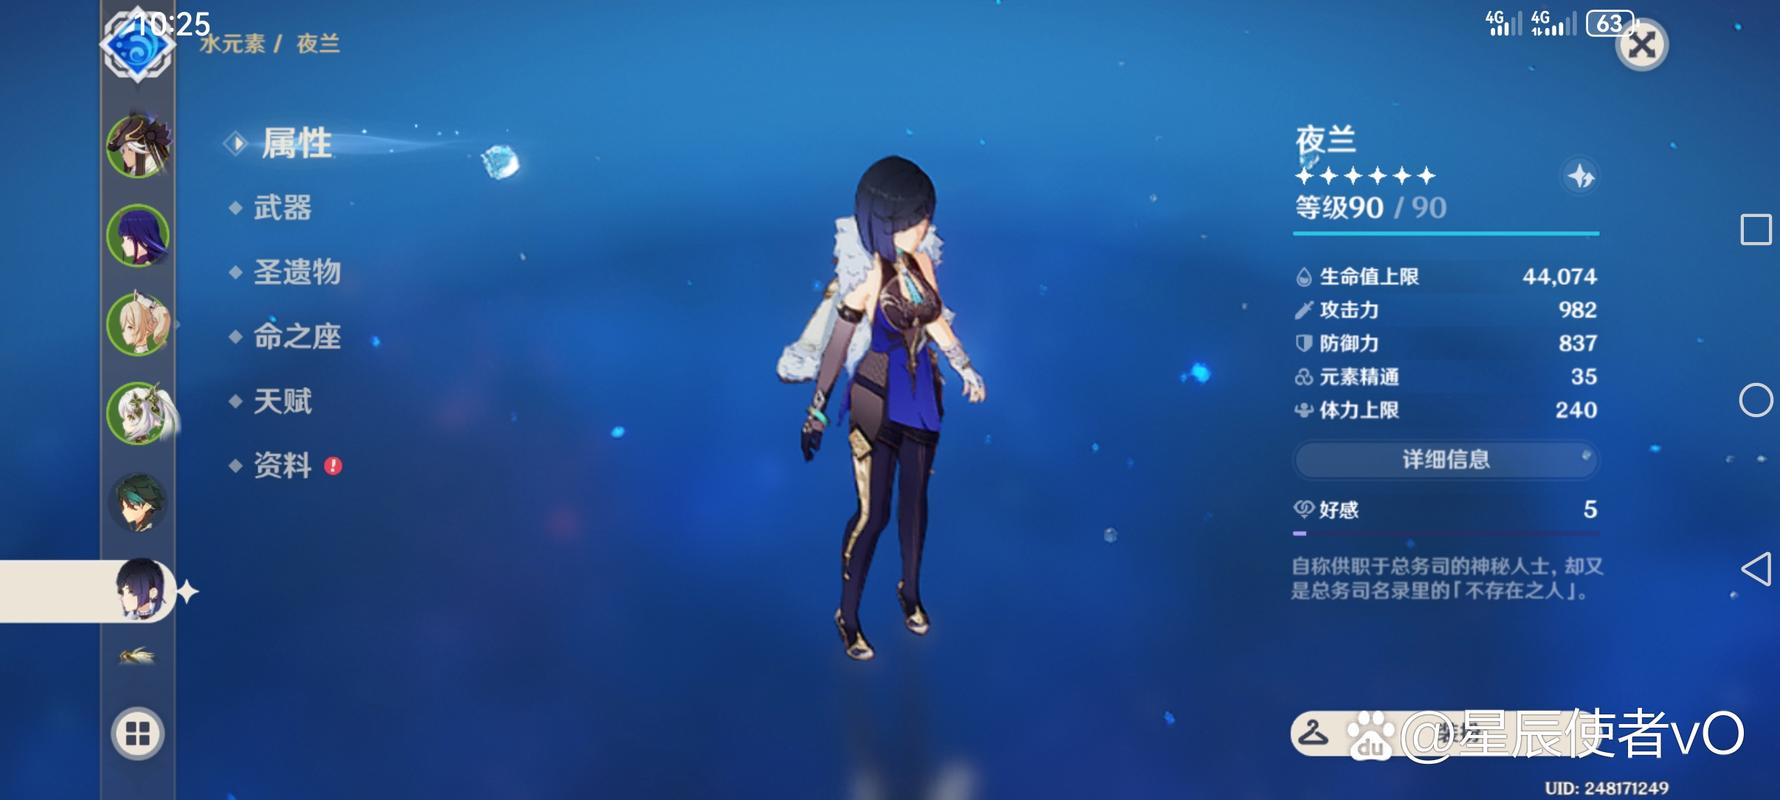夜兰: (787, 127, 1001, 671)
